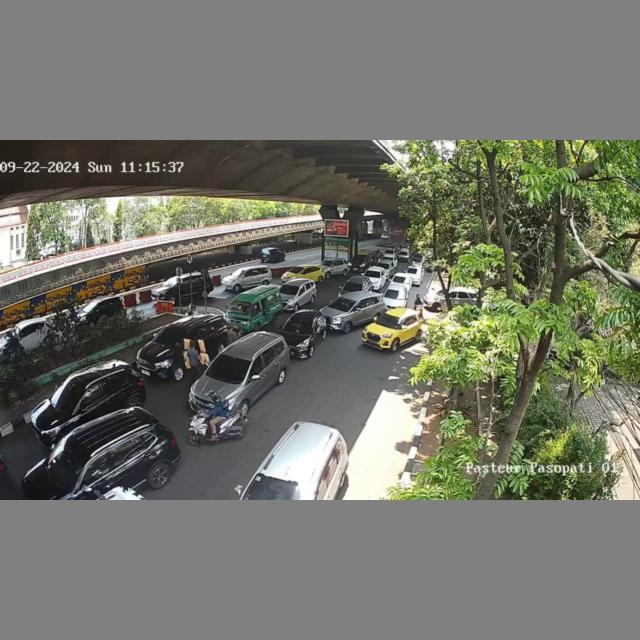windshield: (46, 442, 85, 491), (206, 354, 252, 383), (53, 380, 86, 411), (154, 326, 186, 349), (283, 318, 313, 334), (329, 296, 354, 311), (376, 313, 402, 327), (229, 301, 250, 314), (279, 285, 299, 294)
